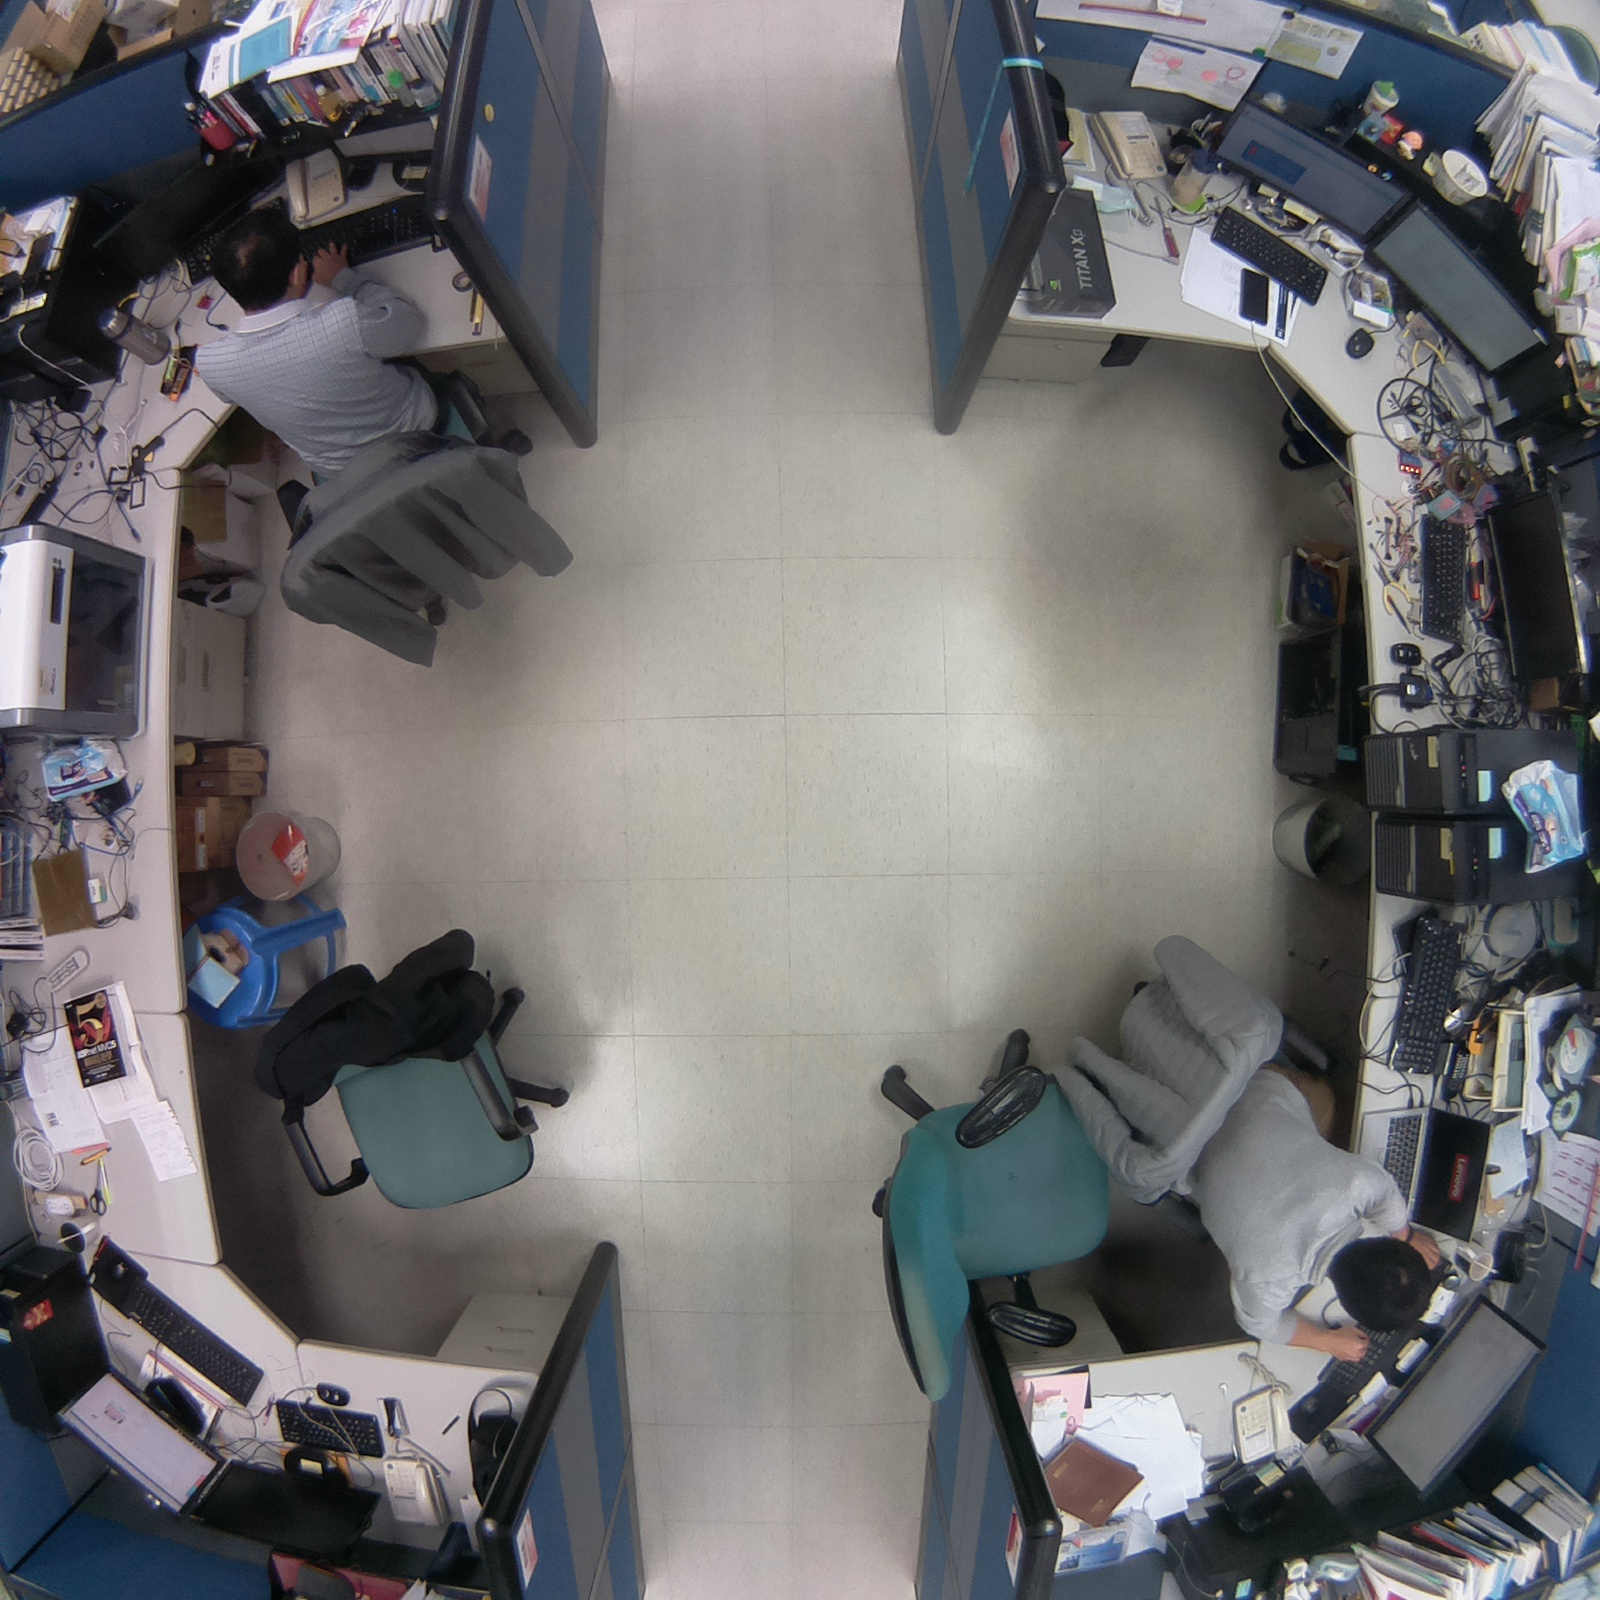chair: (842, 1014, 1122, 1427), (242, 906, 588, 1232)
head: (1312, 1217, 1438, 1340), (197, 206, 310, 321)
sitting: (185, 207, 596, 691), (1042, 922, 1455, 1371)
